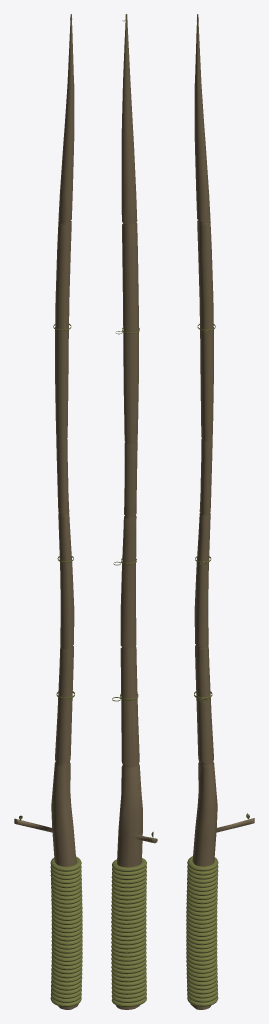
The model's file is woodPole_low.fbx.
The picture shows the model from 3 angles, left to right: view 1: azimuth 90°, elevation 25°; view 2: azimuth 210°, elevation 25°; view 3: azimuth 270°, elevation 25°; orthographic projection.
Visible parts, largest first — view 1: pole_low, handle_low; view 2: pole_low, handle_low, stringHold_low; view 3: pole_low, handle_low, stringHold_low.
Boxes of the visible parts, box(x1,y1,x2,y2) form: pole_low: box(14, 14, 78, 1009); handle_low: box(50, 856, 82, 1006); pole_low: box(116, 14, 157, 1009); handle_low: box(111, 858, 146, 1007); stringHold_low: box(112, 20, 139, 701); pole_low: box(190, 14, 254, 1009); handle_low: box(186, 856, 218, 1006); stringHold_low: box(194, 20, 215, 702).
Bounding box in the file's own units: 23.32 × 676 × 42.32.
